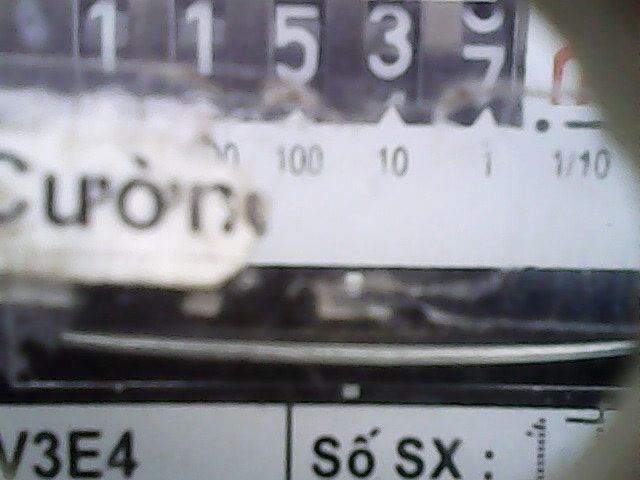phy_plate: (71, 1, 620, 135)
